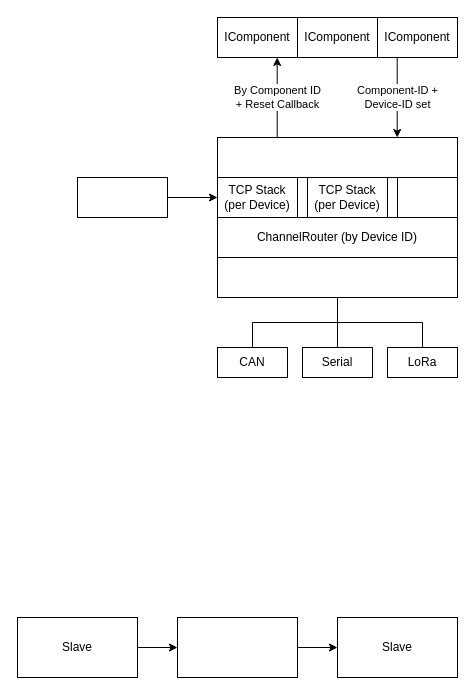
This 475x695 diagram has some shape labels left out. The shapes that lost their labels are listed below. From the top down, each one's centre as x and y in pixels, then its label:
At [337,157]: "MessageRouter (by Component ID)".
At [122,197]: "Has its own component ID".
At [427,197]: "Passthrou/ Broadcast".
At [337,277]: "IChannels".
At [237,647]: "Master".
